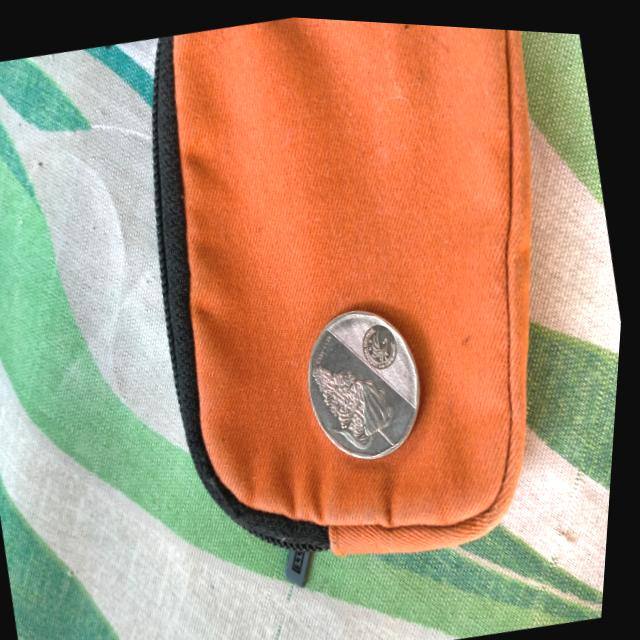10_New_Back: (296, 330, 422, 472)
